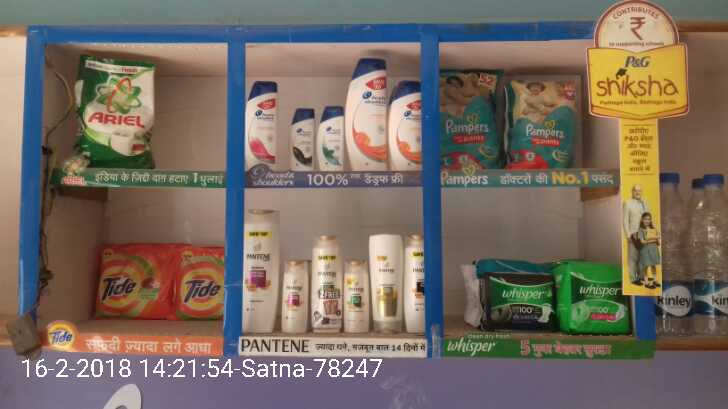beauty: (346, 49, 387, 171), (242, 205, 277, 334), (387, 73, 424, 170), (241, 77, 278, 172), (368, 234, 402, 334), (309, 232, 341, 334), (401, 237, 428, 335), (277, 255, 308, 336), (340, 260, 368, 330), (286, 107, 315, 170), (320, 100, 345, 171)
home: (71, 52, 159, 170), (96, 238, 172, 321), (171, 241, 231, 323)
pharmacy: (431, 73, 503, 174), (504, 76, 571, 168), (556, 258, 632, 332), (485, 274, 554, 339)
